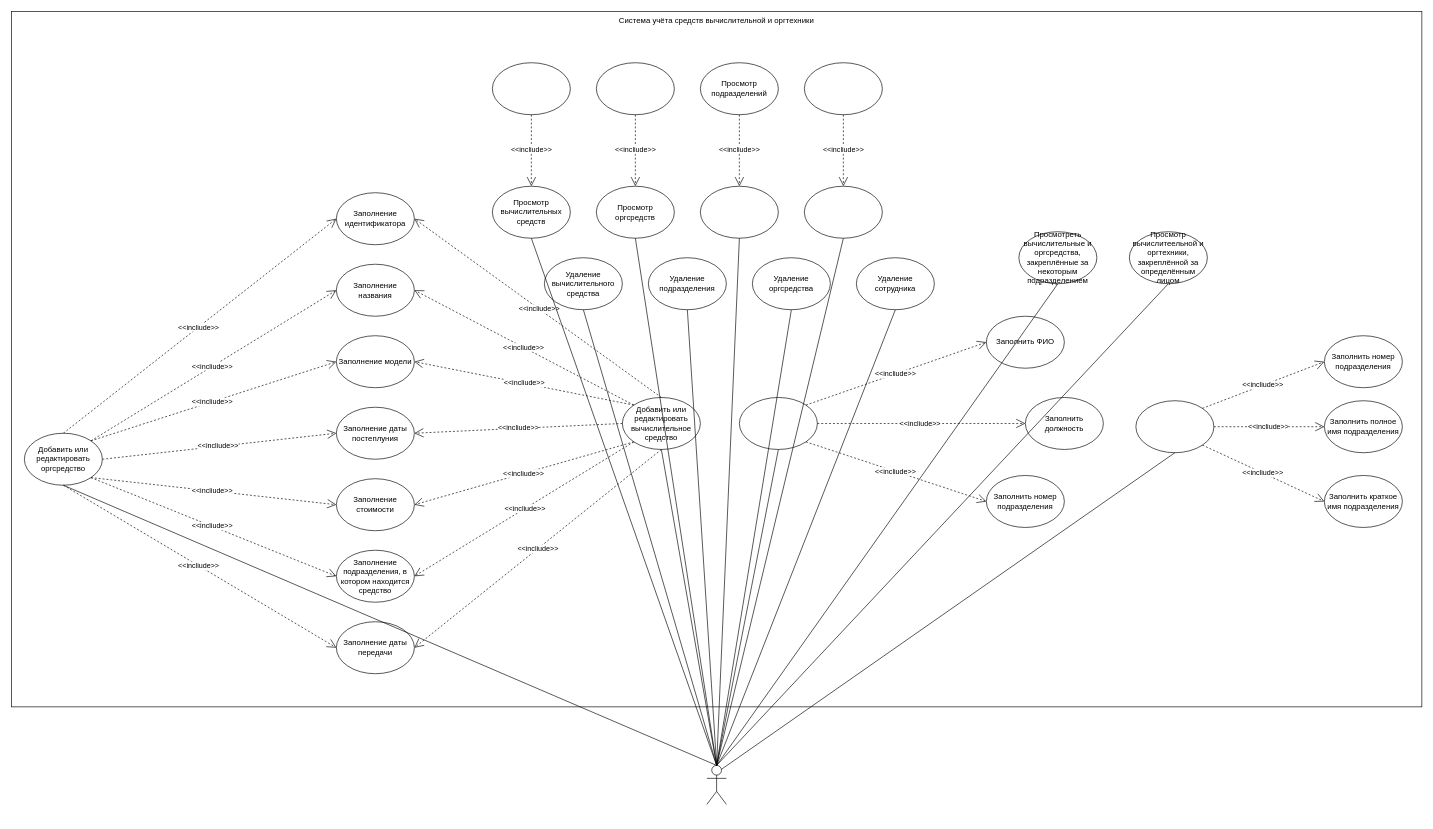
The diagram is 1433 pixels wide and 829 high, and some of its shapes have lost their labels. The centre of each missing label's shape, as x and y in pixels:
Добавить или редактировать подразделение: (1174,426)
Добавить или редактировать сотрудника: (778,423)
Пользователь: (716,784)
Просмотр одного вычислительного средства: (531,88)
Просмотр одного оргсредства: (635,88)
Просмотр одного подразделения: (739,212)
Просмотр одного сотрудника: (843,212)
Просмотр сотрудников: (843,88)
